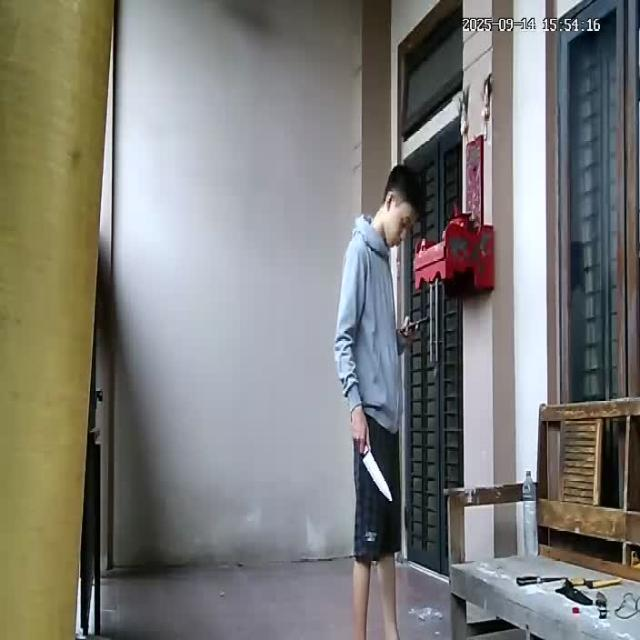senjata_tajam: (362, 452, 394, 503)
